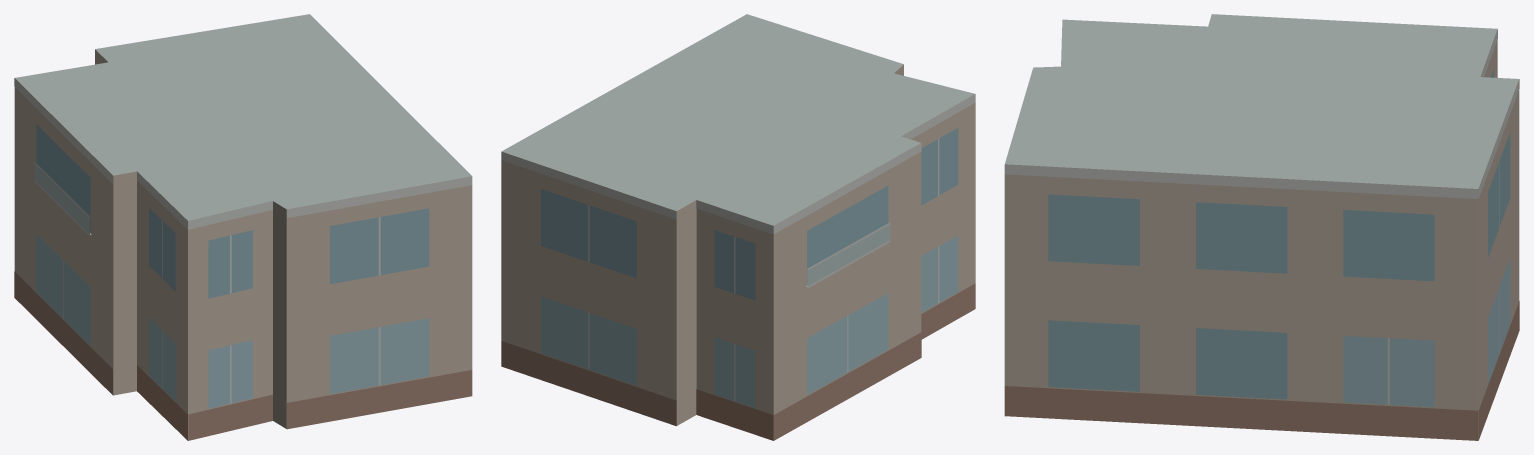
The model's file is survey-upis-32796037.glb.
3 renders of one model, left to right at view 1: azimuth 30°, elevation 25°; view 2: azimuth 150°, elevation 25°; view 3: azimuth 270°, elevation 25°, orthographic. The views are drawn at different scales.
Parts seen in each view (by area): view 1: survey-upis-32796037.tmp; view 2: survey-upis-32796037.tmp; view 3: survey-upis-32796037.tmp.
Boxes of the visible parts, <box> form: survey-upis-32796037.tmp: <box>14,14,472,440</box>; survey-upis-32796037.tmp: <box>501,14,975,440</box>; survey-upis-32796037.tmp: <box>1004,14,1519,440</box>.
Bounding box in the file's own units: 9.1 × 6.1 × 11.31.
